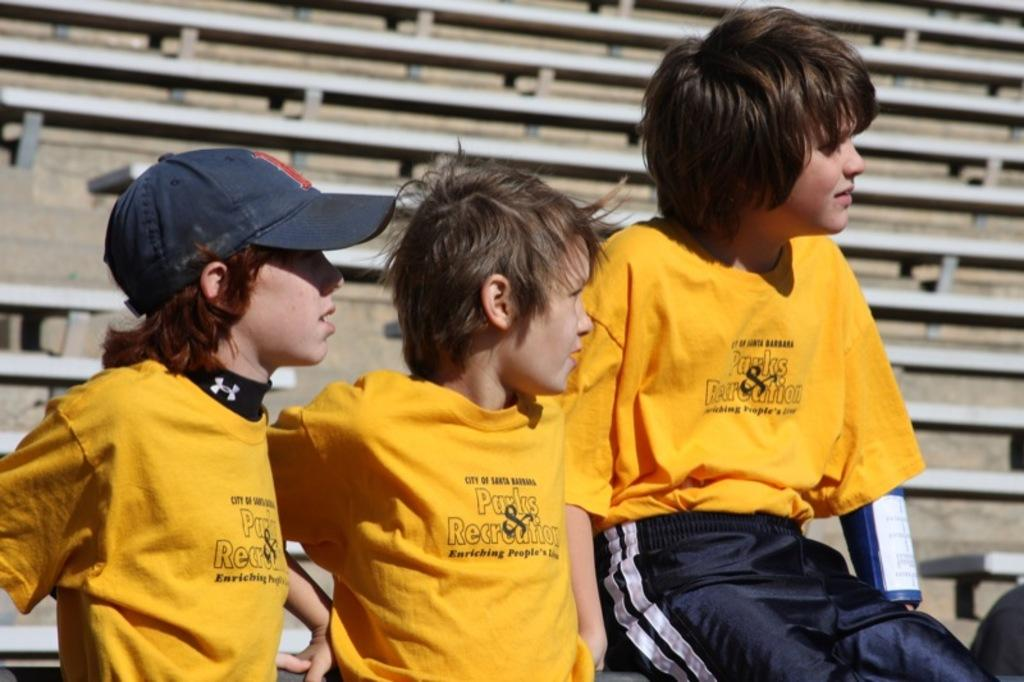Hat: (100, 148, 398, 317)
